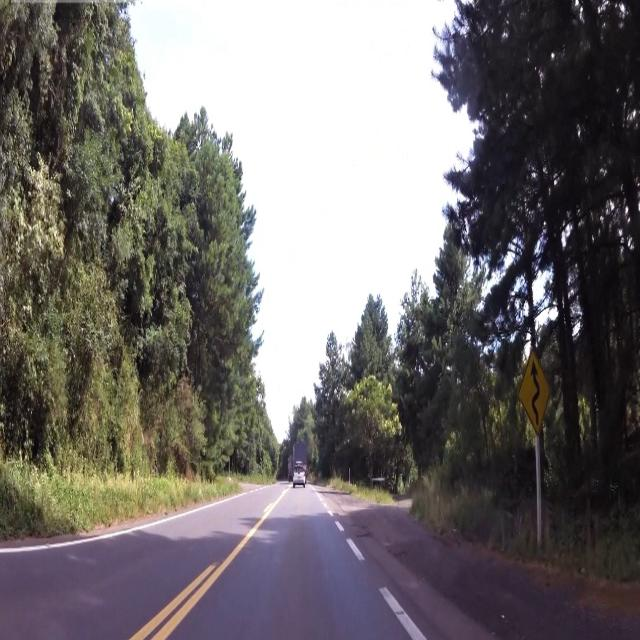A-3a: (509, 338, 560, 434)
